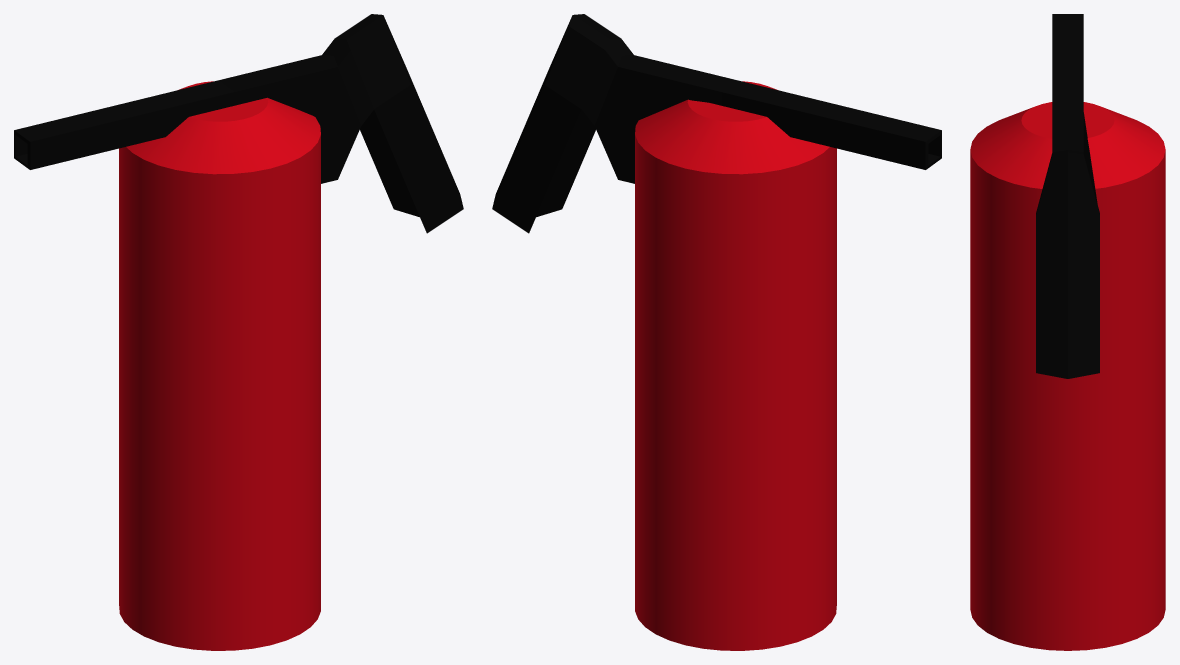
The model's file is FireExPlacement.fbx.
The picture shows the model from 3 angles, left to right: view 1: azimuth 30°, elevation 25°; view 2: azimuth 150°, elevation 25°; view 3: azimuth 270°, elevation 25°; orthographic projection. The views are drawn at different scales.
Visible parts, largest first — view 1: Cylinder; view 2: Cylinder; view 3: Cylinder.
Boxes of the visible parts, bbox=[...] form: Cylinder: bbox=[14, 14, 463, 650]; Cylinder: bbox=[492, 14, 941, 650]; Cylinder: bbox=[970, 14, 1165, 650].
Bounding box in the file's own units: 178 × 215 × 71.1.
